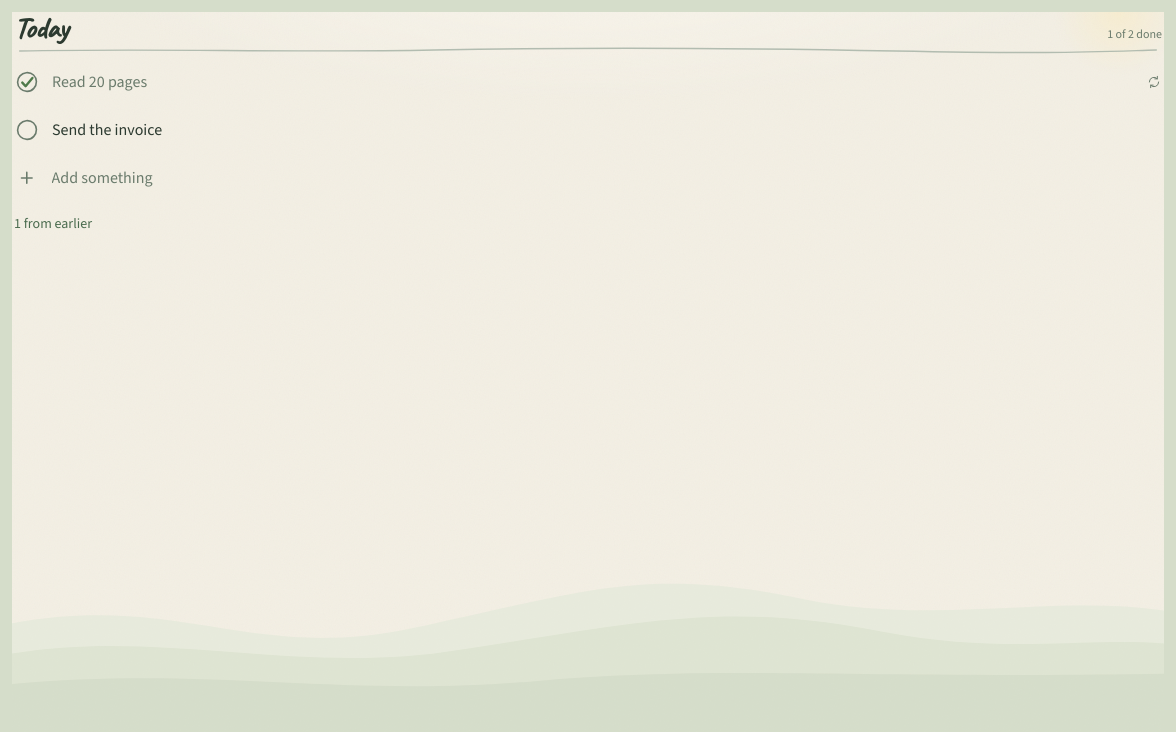
TodayList › lists habits and today's tasks, and checks one off
Expected: the picture named "Daily" is shown, [1146,74,1162,90]
Expected: the text "1 of 2 done" is shown, [1107,26,1162,42]
Click the checkbox labelled "Send the invoice" at (107, 130), box [12,106,1164,154]
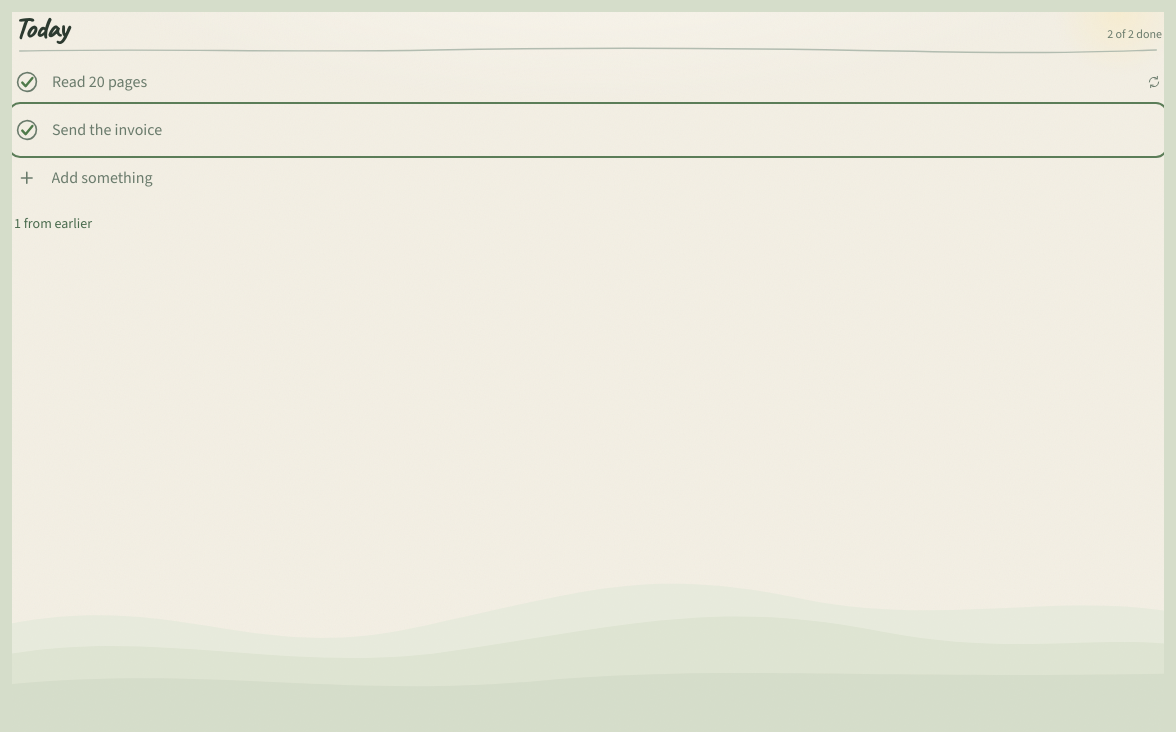
Expected: the text "2 of 2 done" is shown, [1107,26,1162,42]
